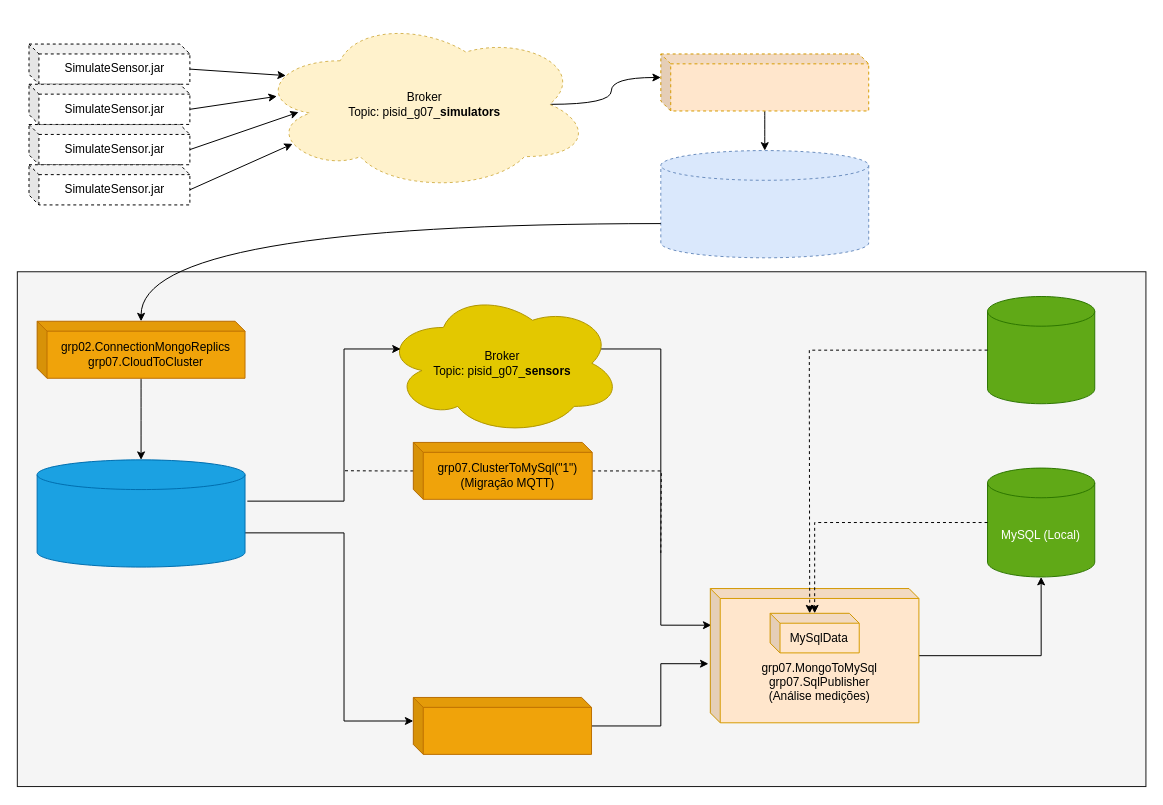
The diagram is 1163 pixels wide and 805 high, and some of its shapes have lost their labels. The centre of each missing label's shape, as x and y in pixels:
BrokerToMongo: (764,82)
grp07.ClusterToMySql("0") (Migração direta): (502,725)
MongoDB Cloud (Atlas temporariamente): (764,204)
MongoDB Local: (140,513)
MySQL (Cloud): (1041,350)
